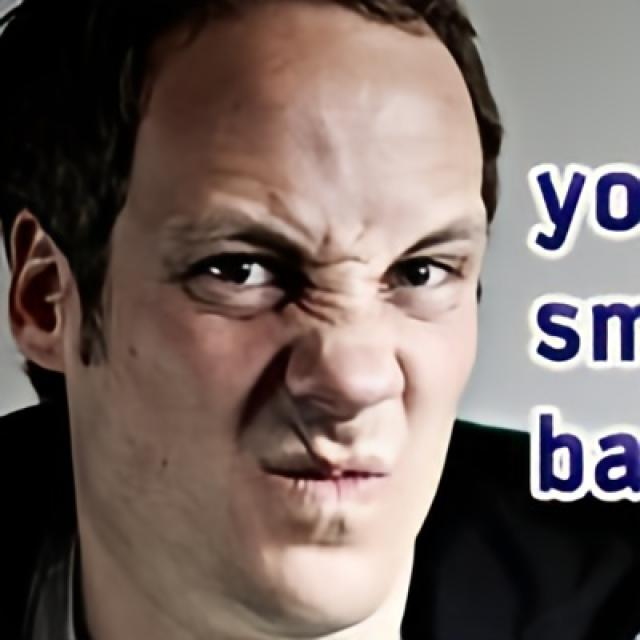disgust: (84, 0, 486, 640)
